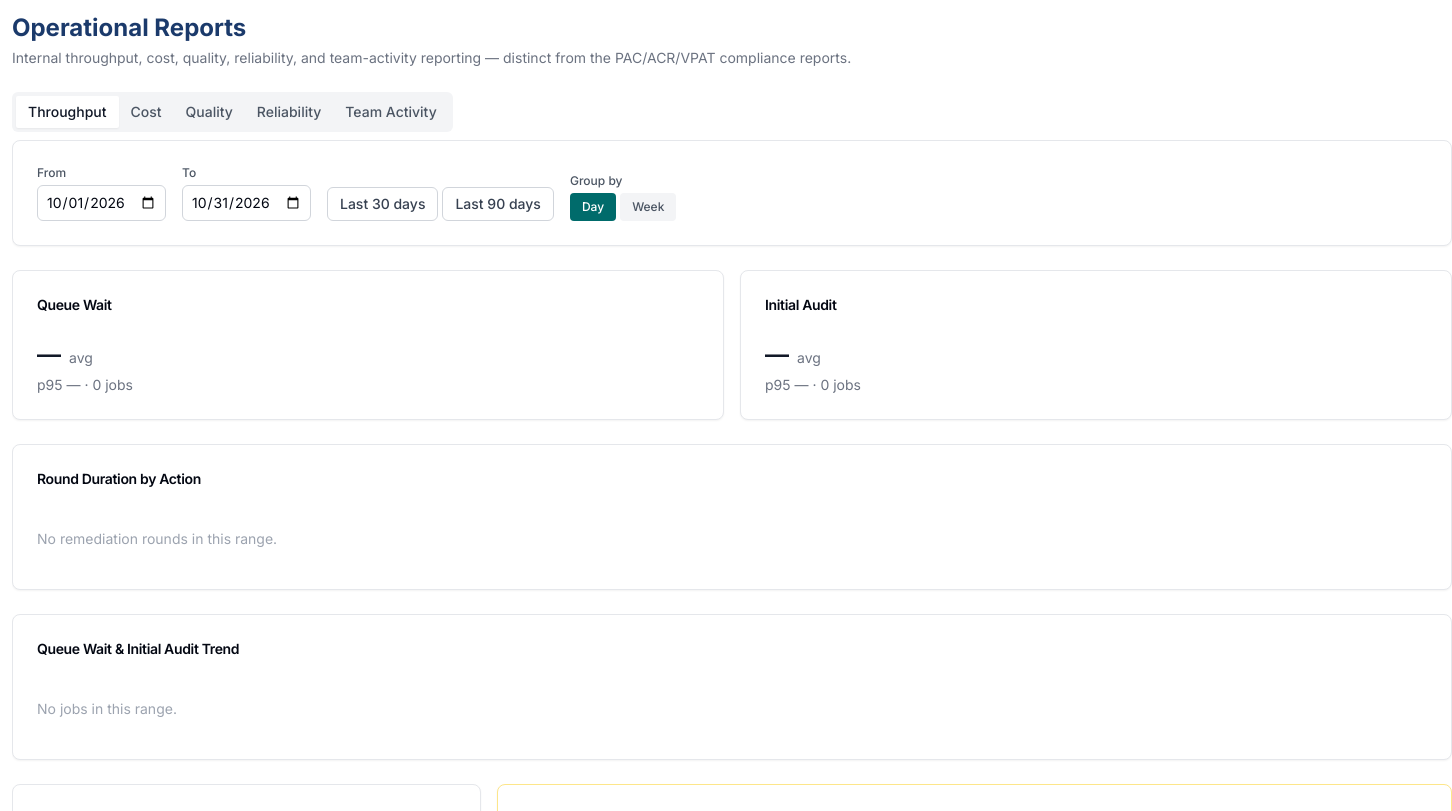
Test case: AdminReportsPage › shows the Throughput tab by default and switches through every other, now-real tab
Check: the heading "Operational Reports" is shown, box [12, 13, 246, 42]
Check: the heading "Queue Wait" is shown, box [37, 296, 112, 313]
Click the tab "Cost" at {"x": 146, "y": 112}, box [118, 96, 174, 128]
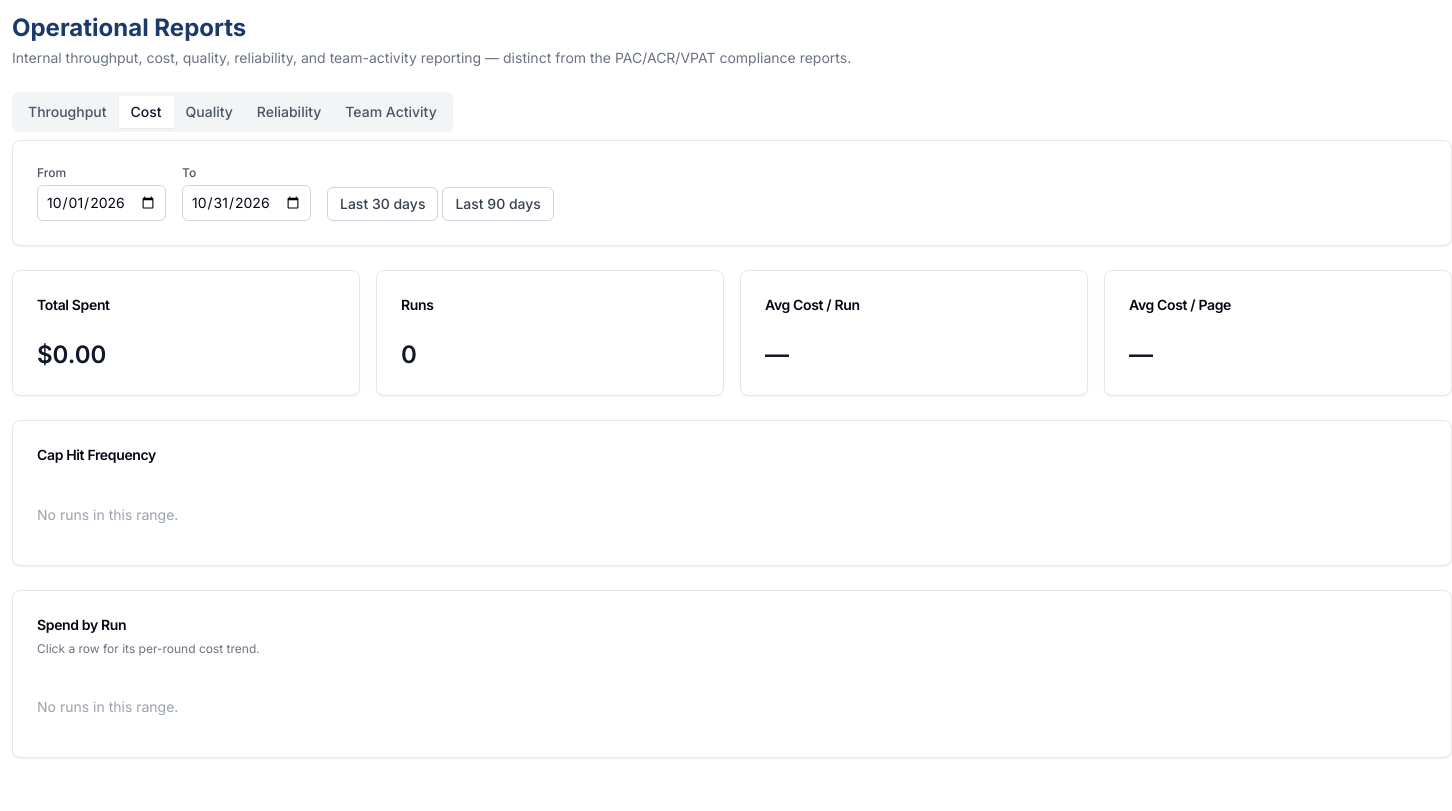
Check: the heading "Total Spent" is shown, box [37, 296, 110, 313]
Check: the heading "Queue Wait" is gone
Click the tab "Quality" at {"x": 209, "y": 112}, box [174, 96, 245, 128]
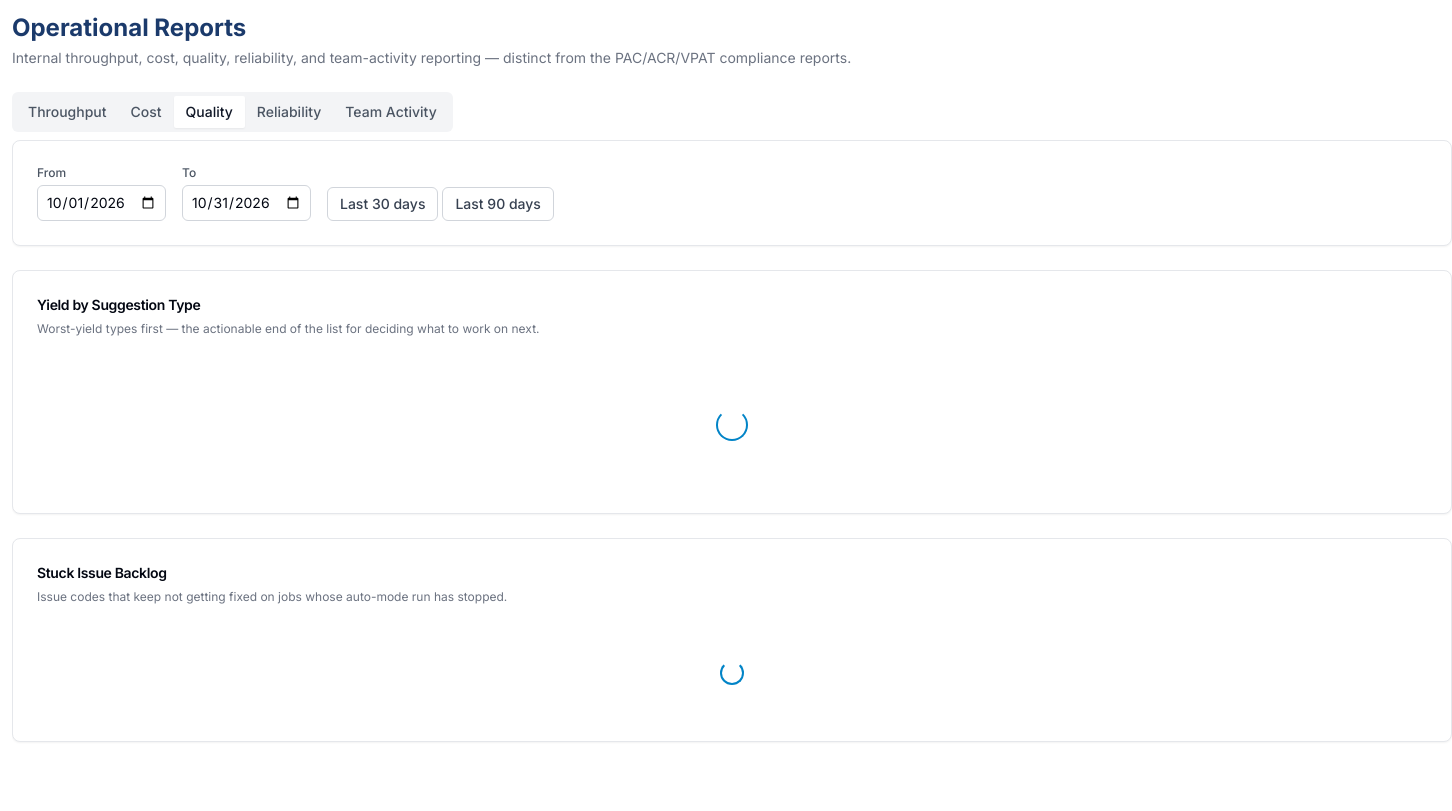
Check: the heading "Yield by Suggestion Type" is shown, box [37, 296, 200, 313]
Check: the heading "Total Spent" is gone
Click the tab "Reliability" at {"x": 289, "y": 112}, box [245, 96, 333, 128]
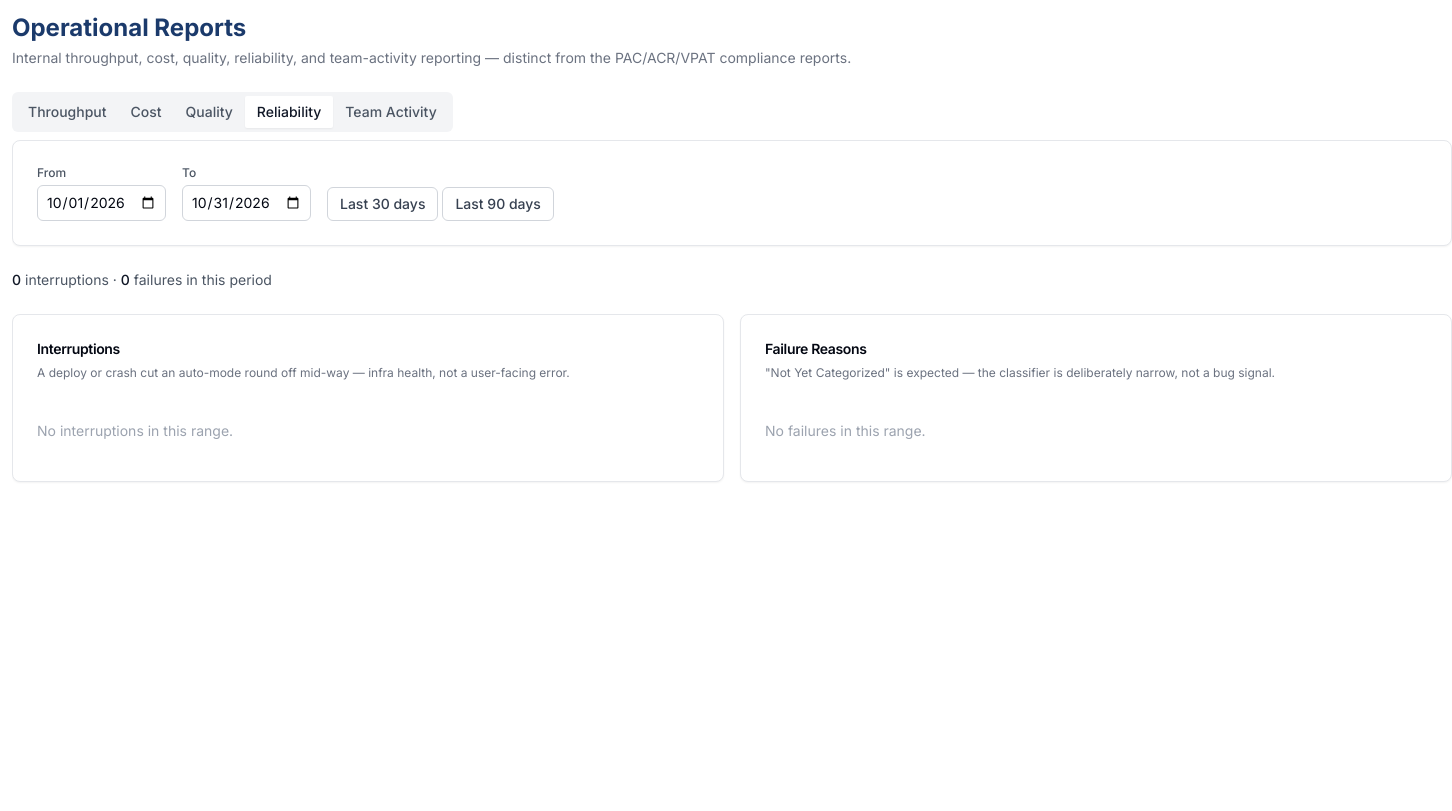
Check: the heading "Yield by Suggestion Type" is gone
Click the tab "Team Activity" at {"x": 391, "y": 112}, box [333, 96, 449, 128]
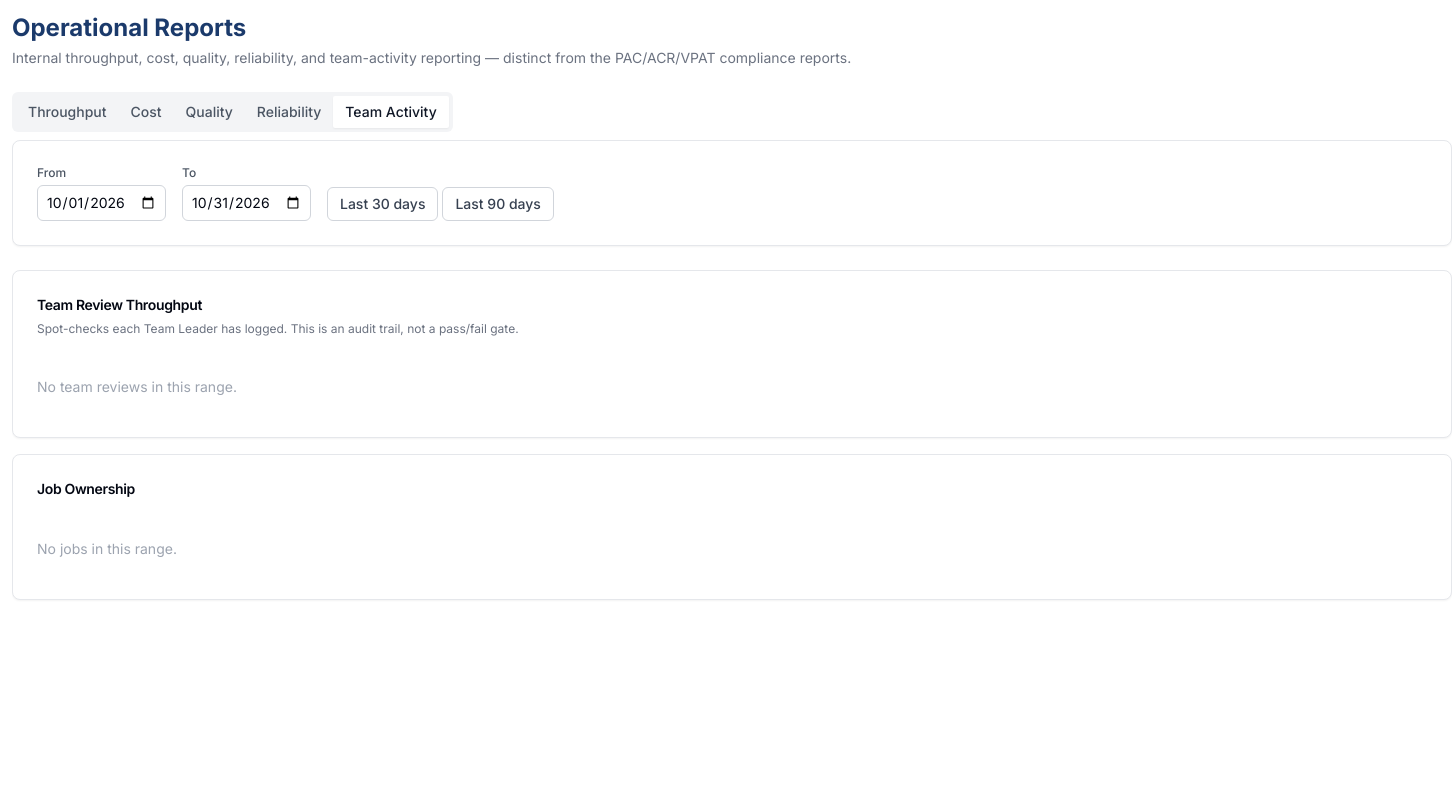
Check: the heading "Queue Wait" is not shown
Check: the text "No team reviews in this range." is shown, box [37, 378, 237, 395]
